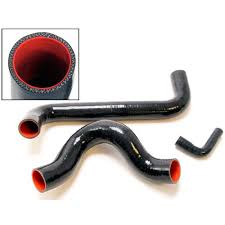radiator_hose: (17, 70, 189, 138), (33, 120, 180, 193)
